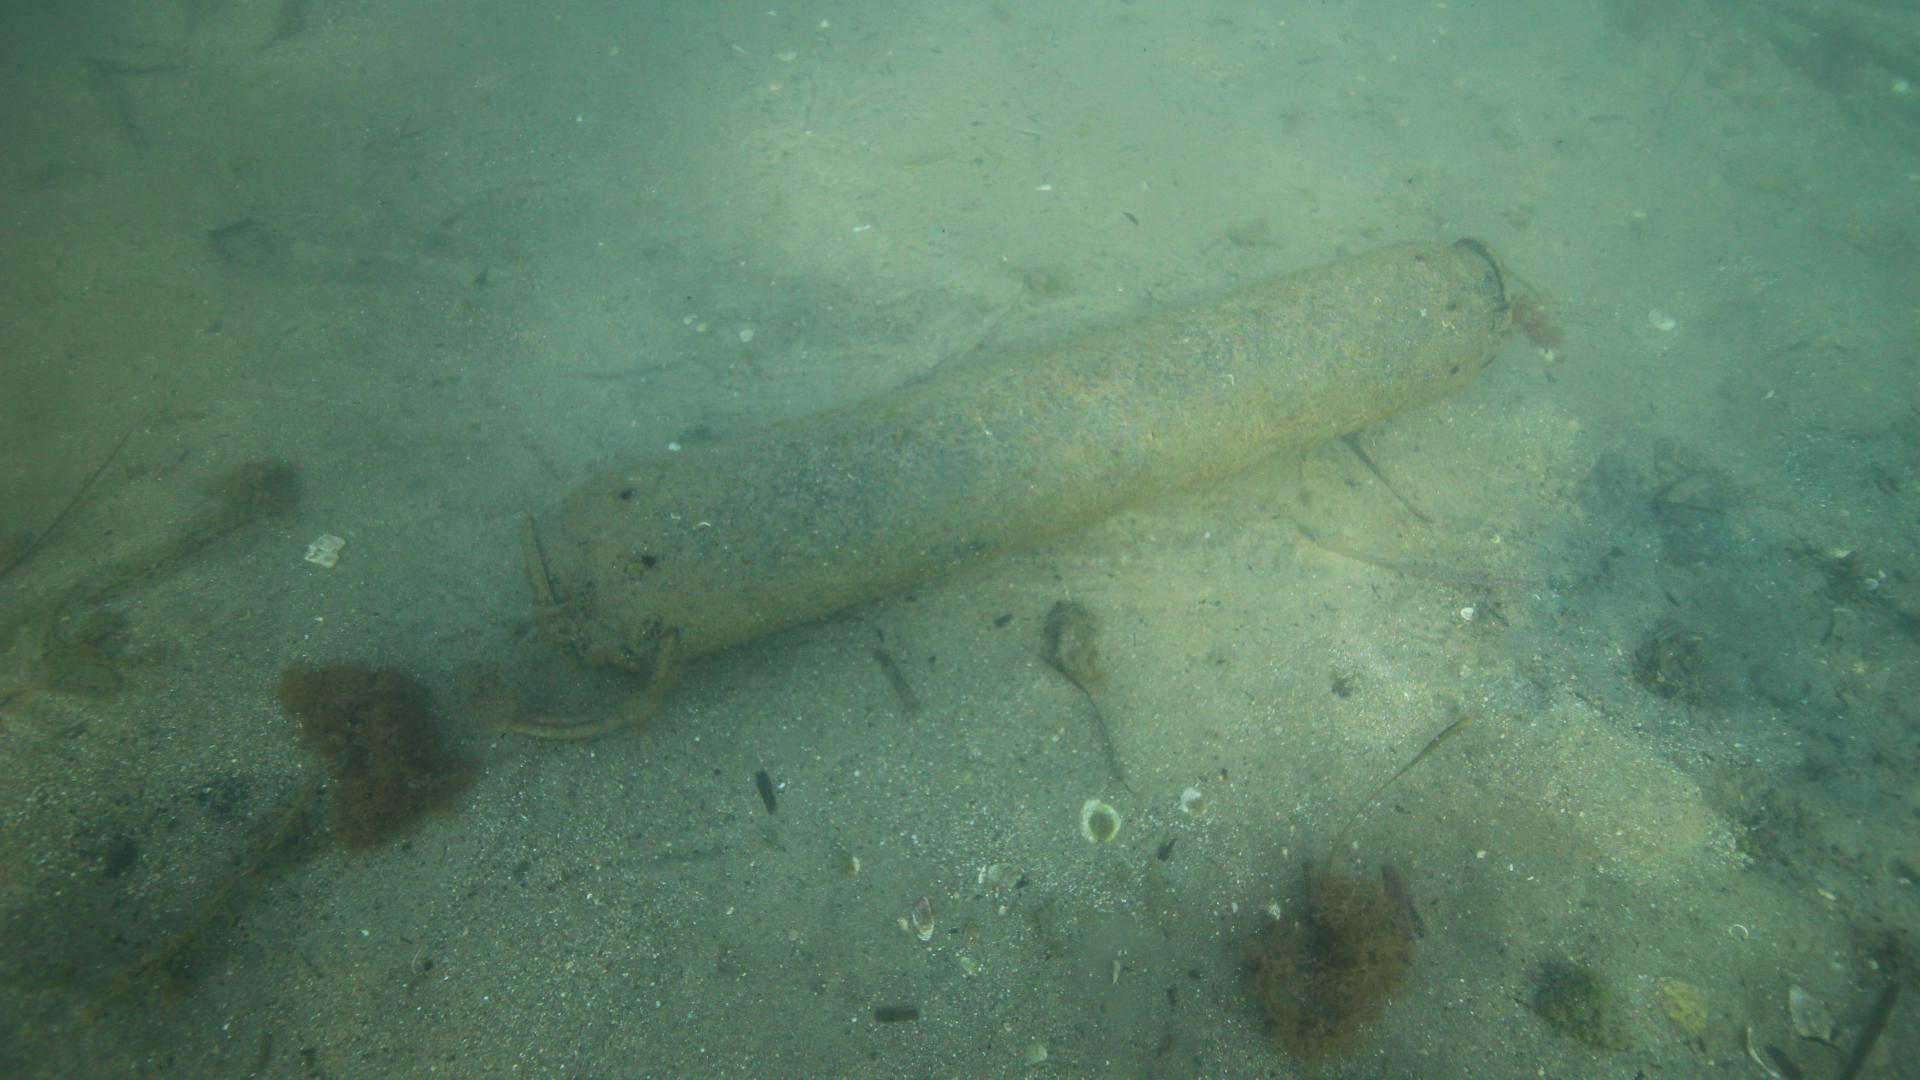bundle of ropes: (504, 626, 679, 742)
eel fish trap: (520, 229, 1520, 675)
